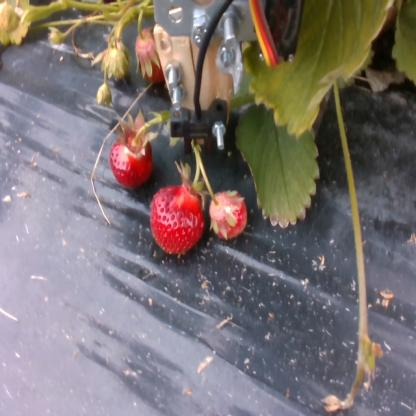ripe: (149, 183, 207, 259), (104, 126, 159, 190), (210, 186, 246, 236), (132, 34, 170, 81)
